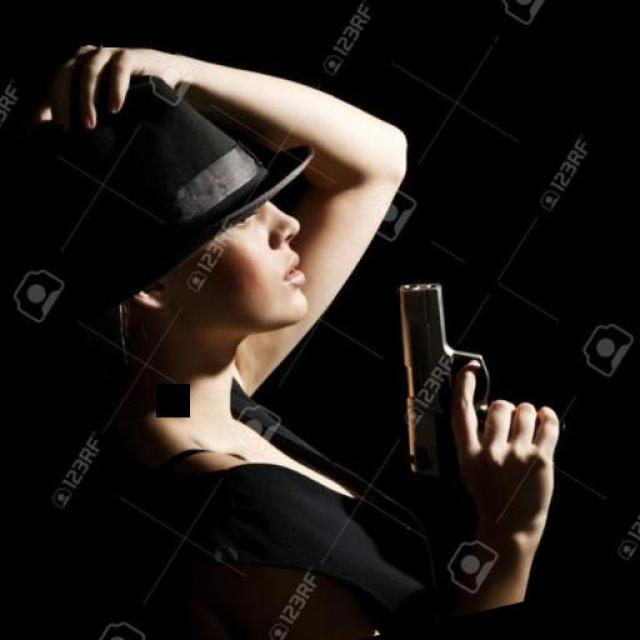gun: (354, 241, 578, 509)
